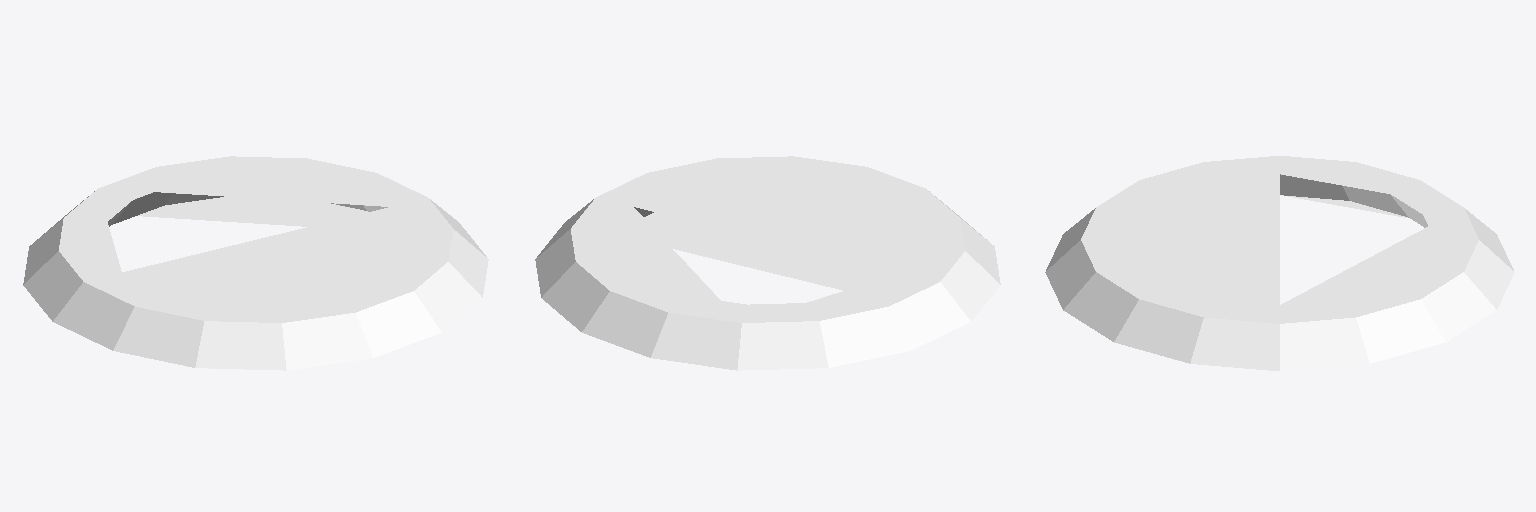
File: circulo.obj
The picture shows the model from 3 angles: view 1: azimuth 30°, elevation 25°; view 2: azimuth 150°, elevation 25°; view 3: azimuth 270°, elevation 25°; orthographic projection.
Visible parts, largest first — view 1: Circle_Circle.001; view 2: Circle_Circle.001; view 3: Circle_Circle.001.
Boxes of the visible parts, <box> form: Circle_Circle.001: <box>23,156,488,370</box>; Circle_Circle.001: <box>535,156,1000,370</box>; Circle_Circle.001: <box>1045,156,1514,370</box>.
Size of the model in its own units: 1.88 by 0.1433 by 1.88.